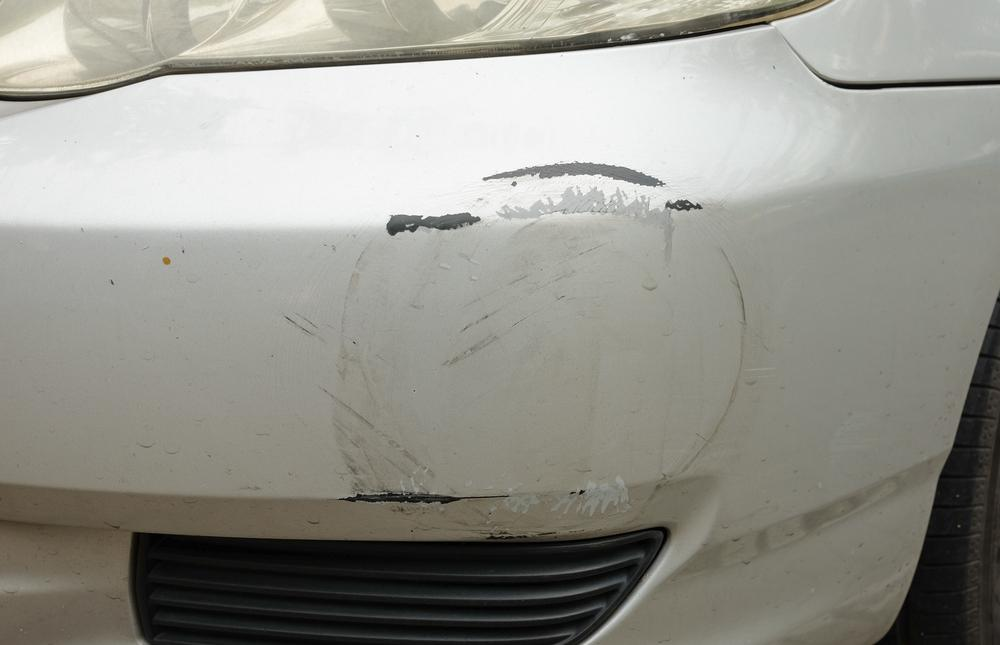scratch: (321, 153, 751, 540)
